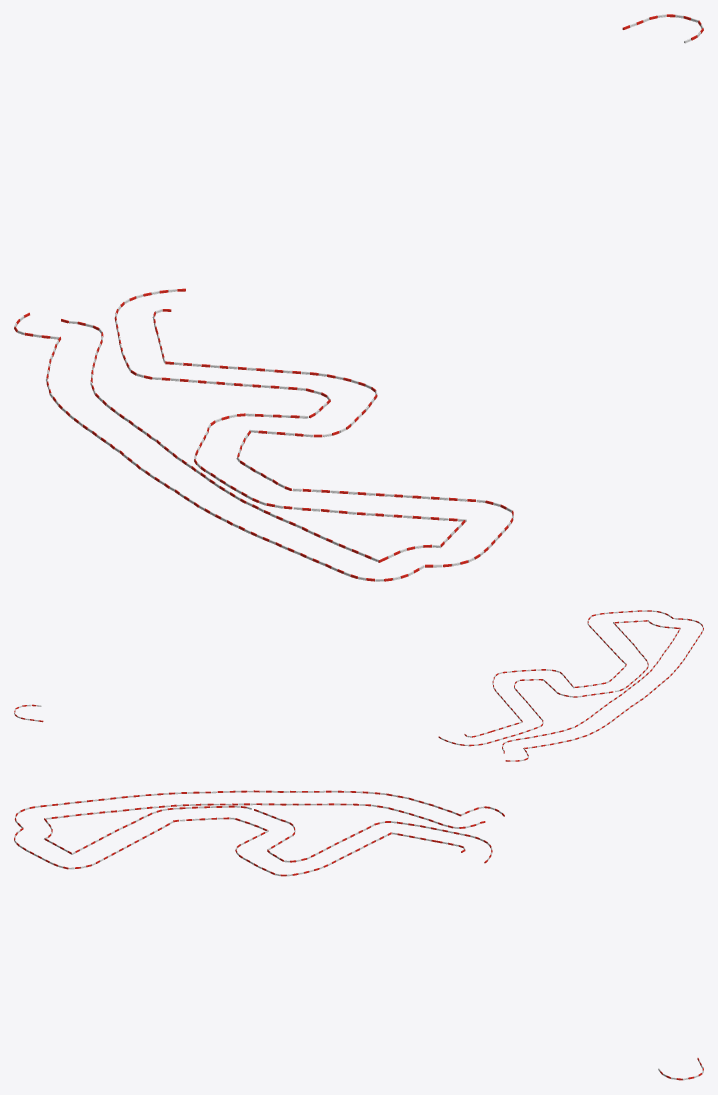
File: Muros.fbx
The picture shows the model from 3 angles, top to bottom: view 1: azimuth 30°, elevation 25°; view 2: azimuth 150°, elevation 25°; view 3: azimuth 270°, elevation 25°; orthographic projection. The views are drawn at different scales.
Size of the model in its own units: 23006 by 56.75 by 23231.
